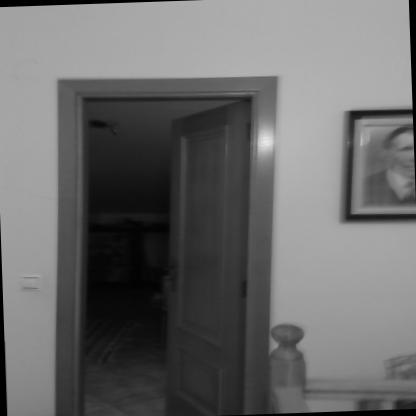semi: (34, 50, 296, 416)
